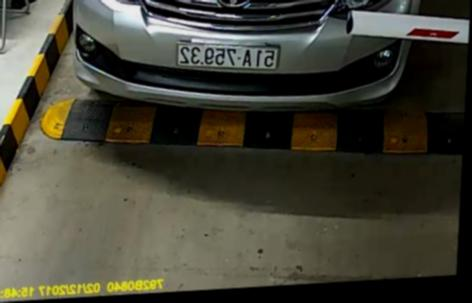License_Plate: (170, 39, 284, 77)
